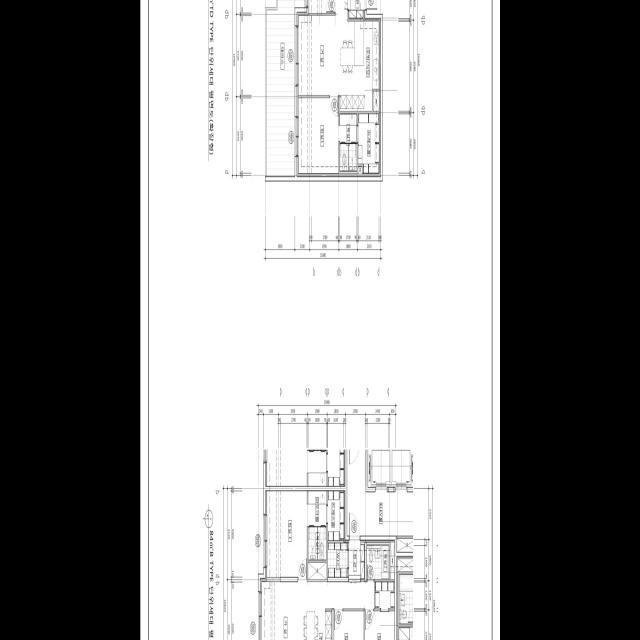background: (140, 0, 500, 640)
space_bedroom: (265, 491, 307, 577), (297, 98, 338, 176), (364, 611, 394, 640), (334, 611, 363, 640)
space_dressroom: (358, 114, 380, 176), (327, 491, 345, 541), (375, 582, 394, 609)
space_elevator: (368, 450, 391, 487), (391, 450, 413, 487)
space_elevator_hall: (347, 450, 413, 536)
space_front: (348, 541, 364, 580), (347, 0, 364, 19)
space_kitchen: (339, 19, 380, 111), (303, 611, 332, 640)
space_living_room: (260, 579, 374, 640), (297, 0, 347, 95)
space_other: (327, 543, 347, 577), (308, 563, 326, 580), (396, 538, 413, 552), (390, 541, 394, 580), (373, 91, 380, 111), (358, 166, 362, 177)
space_toilet: (308, 491, 326, 560), (338, 114, 357, 172), (366, 545, 389, 580)
